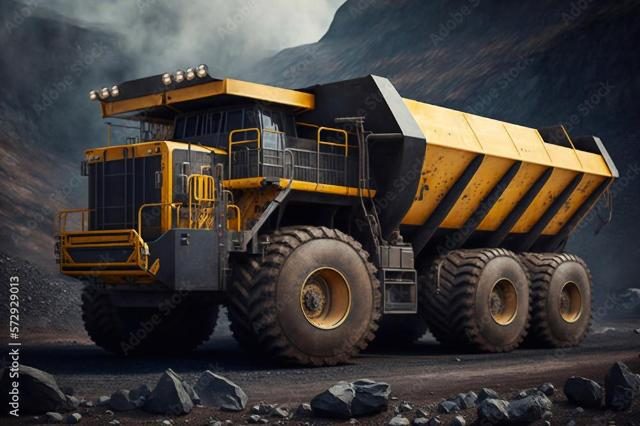truck: (50, 51, 621, 383)
